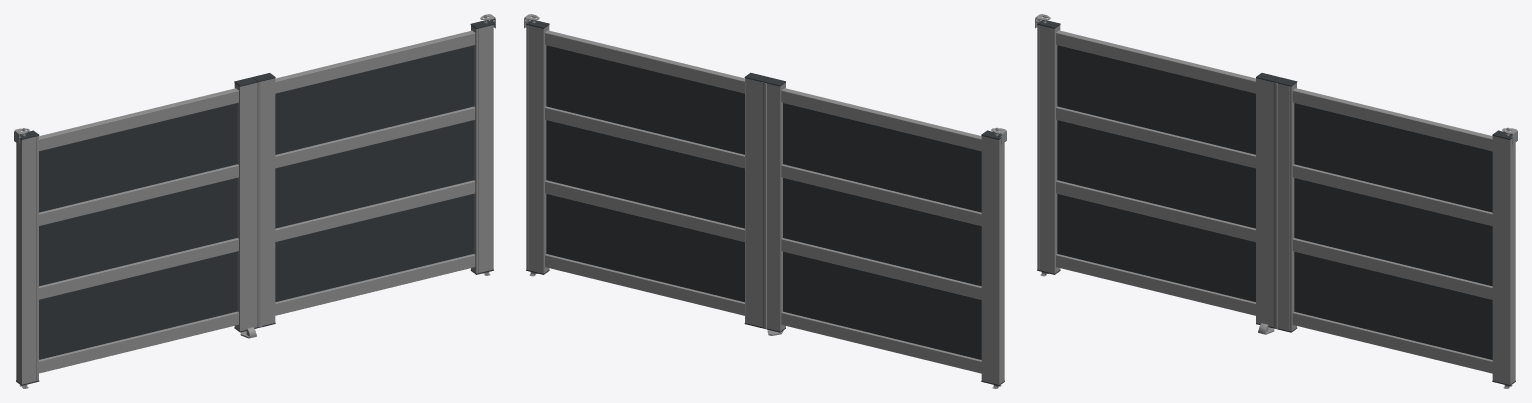
The picture shows the model from 3 angles, left to right: view 1: azimuth 30°, elevation 25°; view 2: azimuth 150°, elevation 25°; view 3: azimuth 330°, elevation 25°; orthographic projection.
Visible parts, largest first — view 1: Box2330, Box2391, Shape107412643, Shape107412644, Shape107412971, Shape107412972, Shape107412898, Shape107412142, Shape107412897, Shape107412895, Shape107412896, Shape107412141 (+3 smaller); view 2: Box2330, Box2391, Shape107412643, Shape107412971, Shape107412972, Shape107412644, Shape107412142, Shape107412898, Shape107412141, Shape107412138, Shape107412135, Shape107412896 (+3 smaller); view 3: Box2391, Box2330, Shape107412971, Shape107412643, Shape107412644, Shape107412972, Shape107412898, Shape107412142, Shape107412897, Shape107412895, Shape107412896, Shape107412141 (+3 smaller).
Boxes of the visible parts, bbox=[...] form: Box2330: bbox=[39, 103, 237, 359]; Box2391: bbox=[275, 45, 473, 301]; Shape107412643: bbox=[16, 136, 38, 384]; Shape107412644: bbox=[234, 83, 257, 331]; Shape107412971: bbox=[471, 25, 493, 273]; Shape107412972: bbox=[259, 78, 275, 325]; Shape107412898: bbox=[275, 30, 475, 93]; Shape107412142: bbox=[39, 88, 238, 151]; Shape107412897: bbox=[275, 254, 475, 315]; Shape107412895: bbox=[275, 180, 475, 241]; Shape107412896: bbox=[275, 106, 475, 168]; Shape107412141: bbox=[39, 311, 238, 373]; Box2330: bbox=[783, 103, 981, 359]; Box2391: bbox=[546, 45, 744, 302]; Shape107412643: bbox=[981, 136, 1004, 384]; Shape107412971: bbox=[526, 24, 549, 273]; Shape107412972: bbox=[745, 78, 762, 326]; Shape107412644: bbox=[764, 82, 785, 331]; Shape107412142: bbox=[781, 88, 981, 151]; Shape107412898: bbox=[545, 30, 744, 93]; Shape107412141: bbox=[781, 311, 981, 373]; Shape107412138: bbox=[781, 164, 981, 225]; Shape107412135: bbox=[781, 238, 981, 299]; Shape107412896: bbox=[545, 106, 744, 168]; Box2391: bbox=[1294, 103, 1492, 359]; Box2330: bbox=[1057, 45, 1255, 302]; Shape107412971: bbox=[1492, 136, 1515, 384]; Shape107412643: bbox=[1037, 24, 1060, 273]; Shape107412644: bbox=[1256, 78, 1273, 326]; Shape107412972: bbox=[1275, 82, 1296, 331]; Shape107412898: bbox=[1292, 88, 1492, 151]; Shape107412142: bbox=[1056, 30, 1255, 93]; Shape107412897: bbox=[1292, 311, 1492, 373]; Shape107412895: bbox=[1292, 238, 1492, 299]; Shape107412896: bbox=[1292, 164, 1492, 225]; Shape107412141: bbox=[1056, 254, 1255, 315].
Bounding box in the file's own units: 3259 × 1693 × 116.
Materials: 8 (3 with a texture image).
